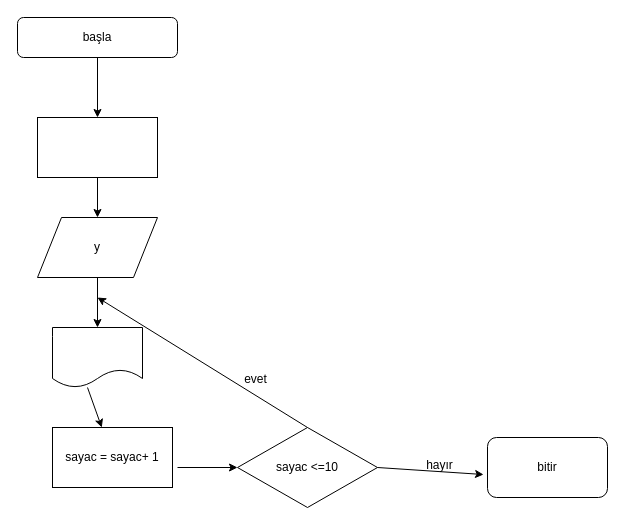
Image size: 625x525. Some labels were removed from this diagram. The centre of each missing label's shape, as x and y in pixels:
beyza: point 97,357
sayac = 1: point 97,147
